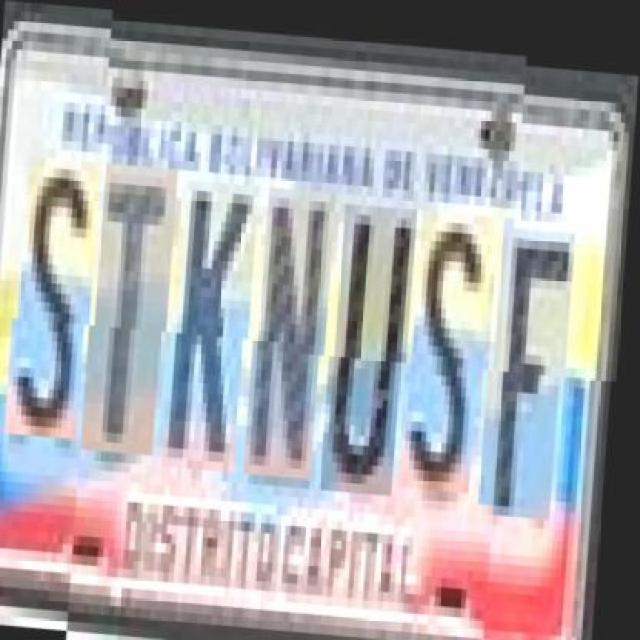f: (491, 208, 578, 500)
k: (174, 177, 261, 468)
n: (255, 182, 338, 473)
s: (15, 165, 103, 448), (409, 203, 497, 485)
t: (92, 160, 180, 452)
u: (332, 197, 419, 488)
